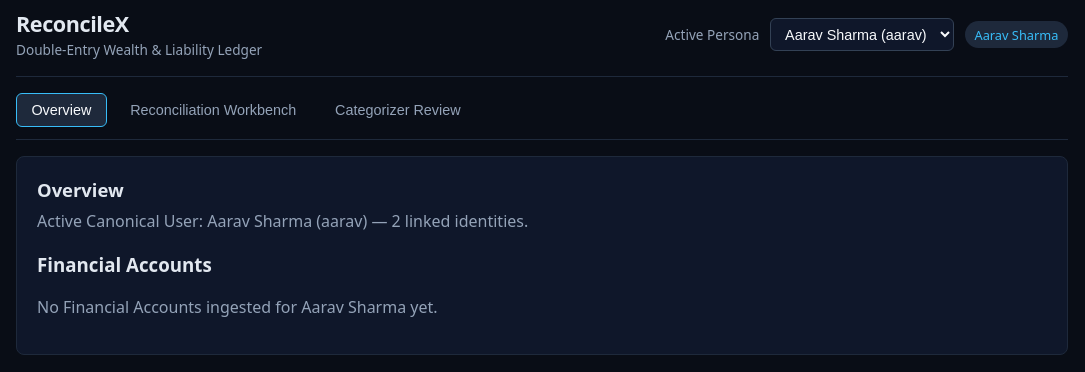
it: ReconcileX App Shell › loads personas, renders the Persona switcher, and switches active persona
Expected: the text with test id "active-persona-badge" reads "Aarav Sharma", 974,26 -> 1058,44
Select "Priya Nair (priya)" in the dropdown named "Active Persona" at {"x": 862, "y": 34}, box 770,18 -> 954,51
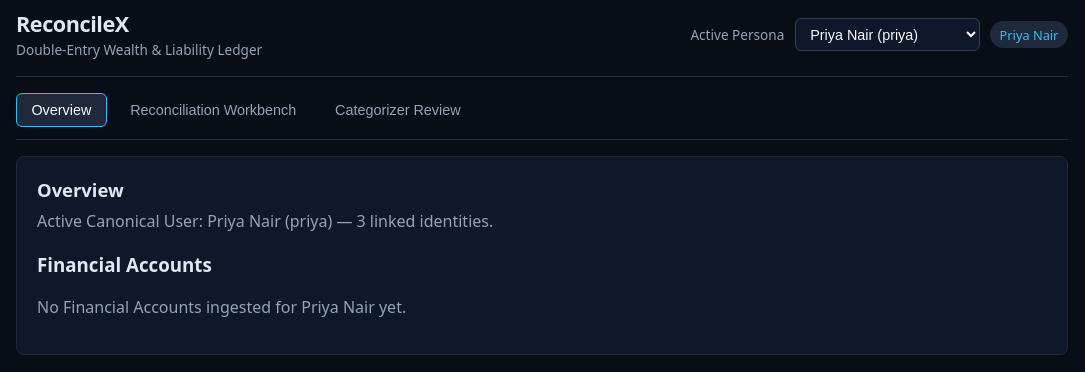
Expected: the text with test id "active-persona-badge" reads "Priya Nair", 1000,26 -> 1058,44
